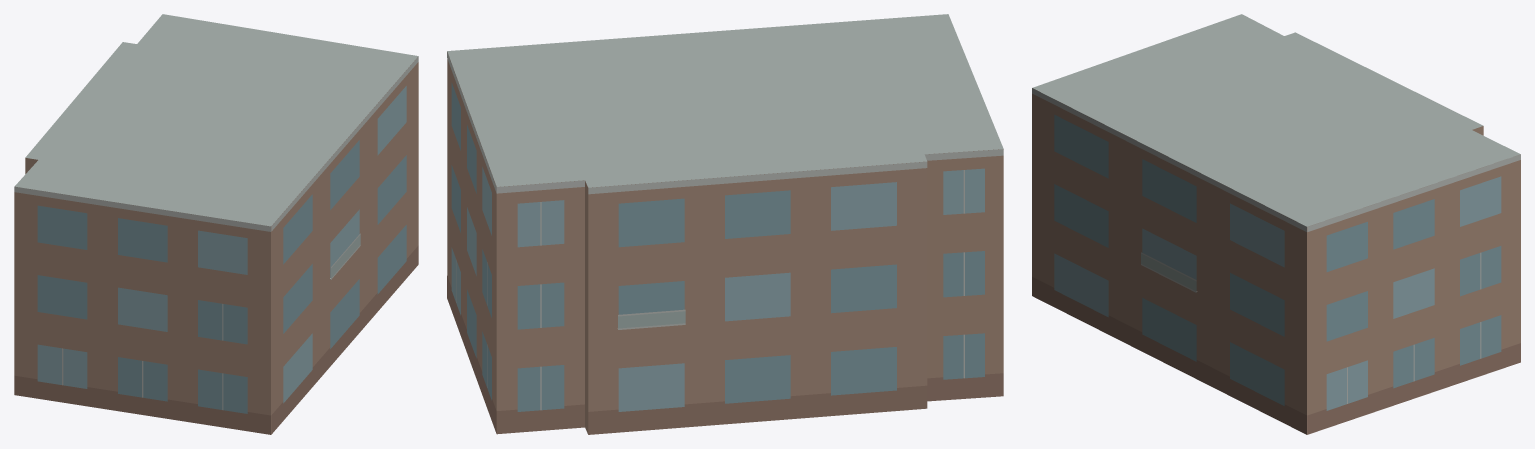
The model's file is survey-upis-32584630.glb.
The picture shows the model from 3 angles, left to right: view 1: azimuth 30°, elevation 25°; view 2: azimuth 150°, elevation 25°; view 3: azimuth 270°, elevation 25°; orthographic projection. The views are drawn at different scales.
Visible parts, largest first — view 1: survey-upis-32584630.tmp; view 2: survey-upis-32584630.tmp; view 3: survey-upis-32584630.tmp.
Part boxes in pixels (bbox=[...]): survey-upis-32584630.tmp: bbox=[14, 14, 418, 434]; survey-upis-32584630.tmp: bbox=[447, 14, 1003, 434]; survey-upis-32584630.tmp: bbox=[1032, 14, 1520, 434].
Bounding box in the file's own units: 20.08 × 9.15 × 19.48.
